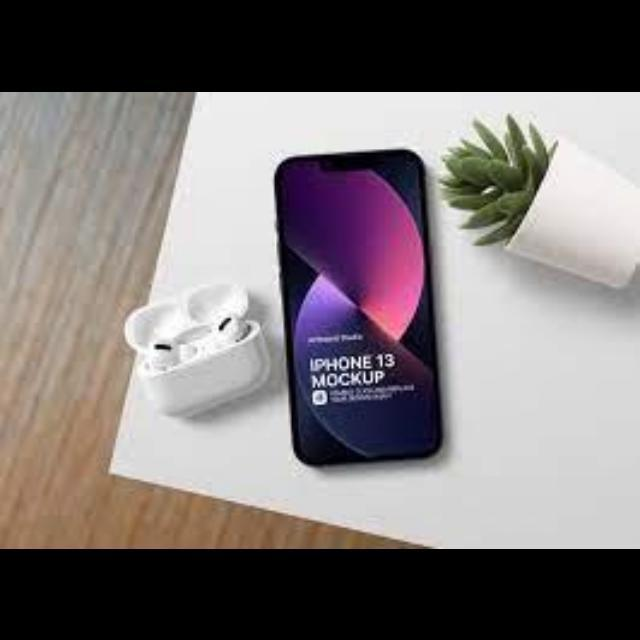phone: (281, 152, 447, 464)
